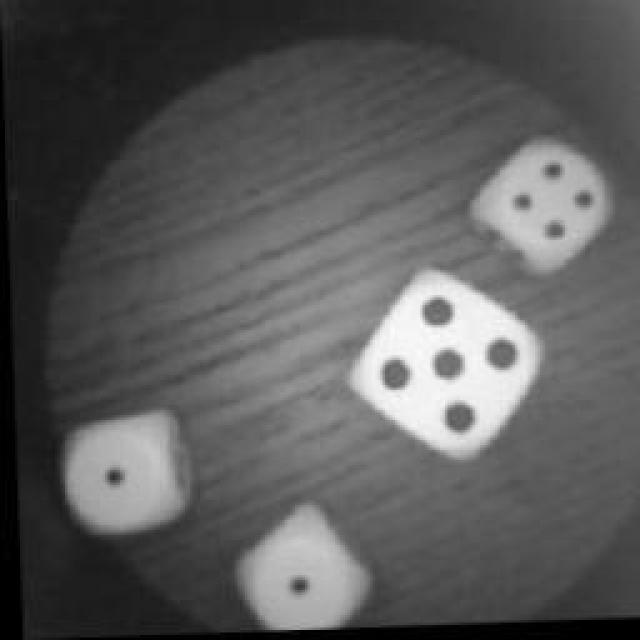dice_1: (54, 405, 194, 545), (226, 503, 366, 635)
dice_4: (480, 132, 620, 276)
dice_5: (340, 268, 545, 472)
